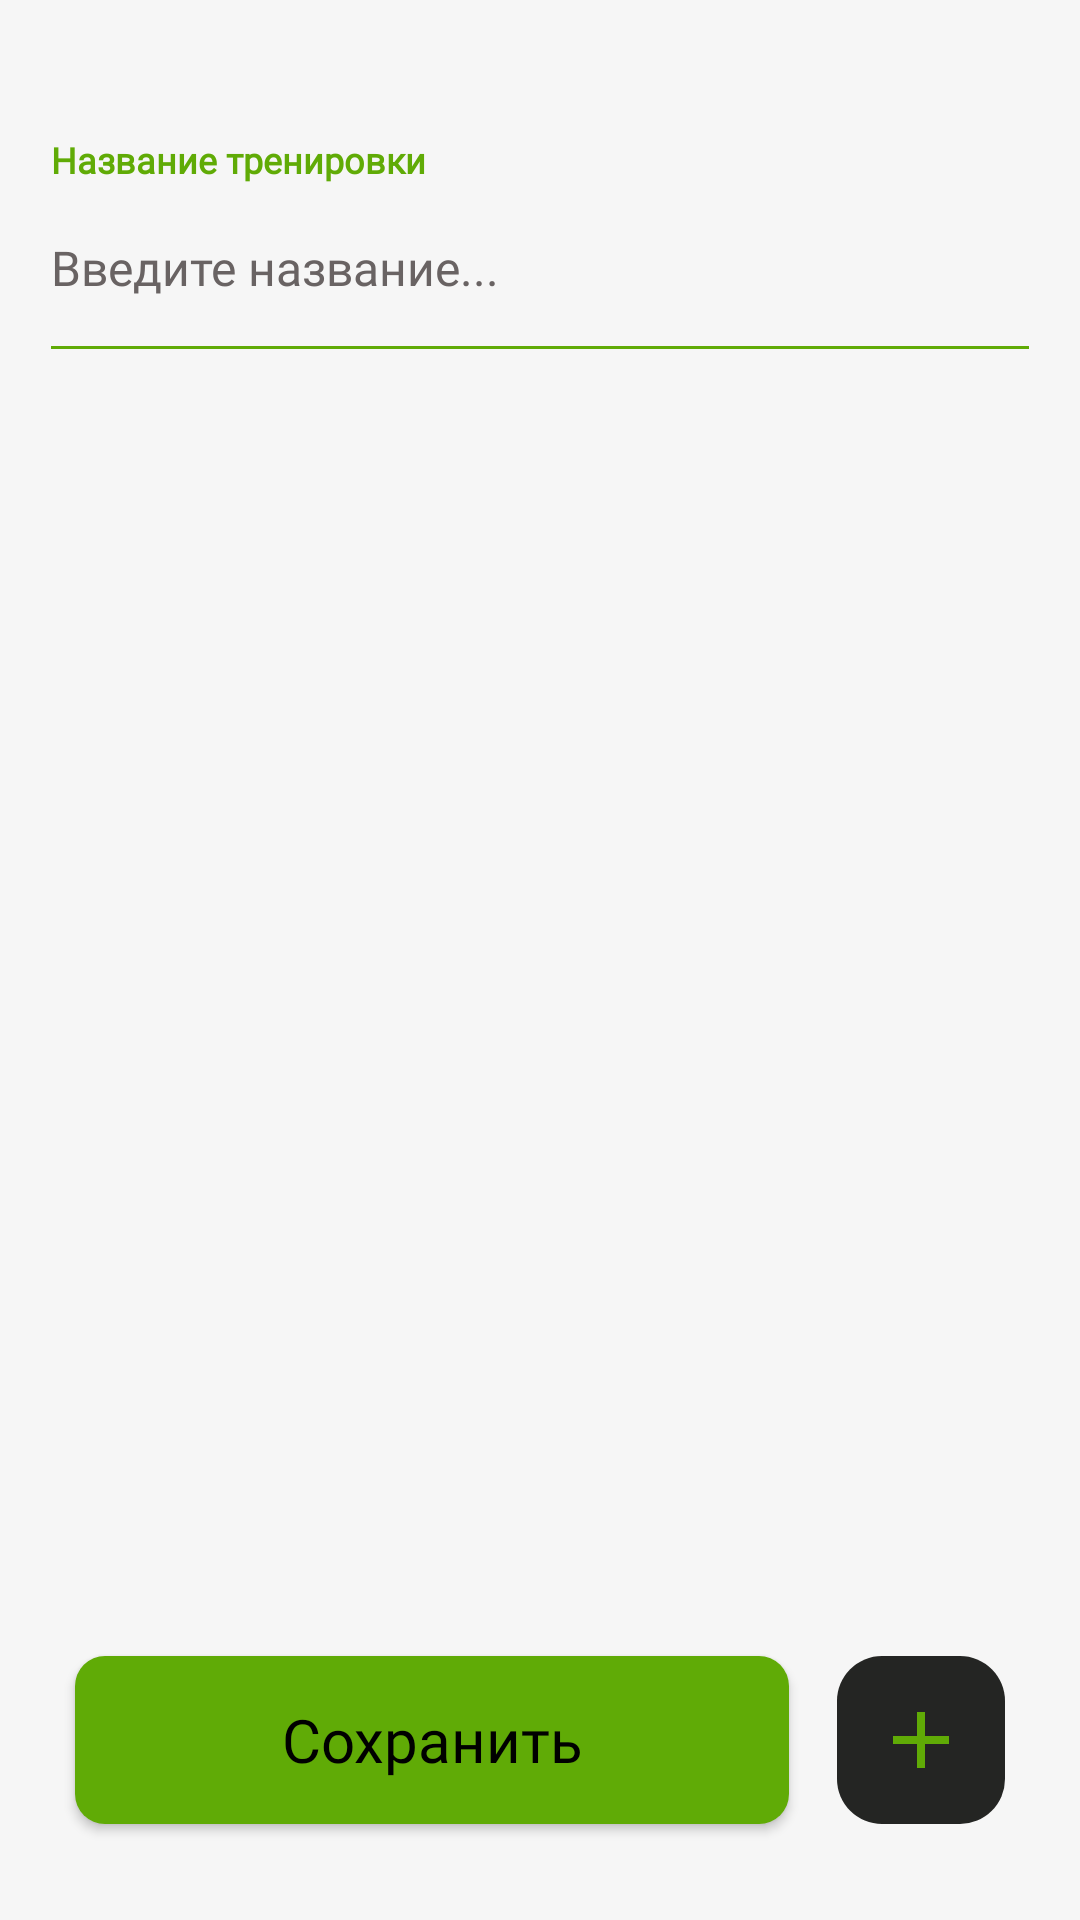

Named icons in this screenshot (1080×1920) and their centers, (x=x, y=y):
add: (x=921, y=1740)
